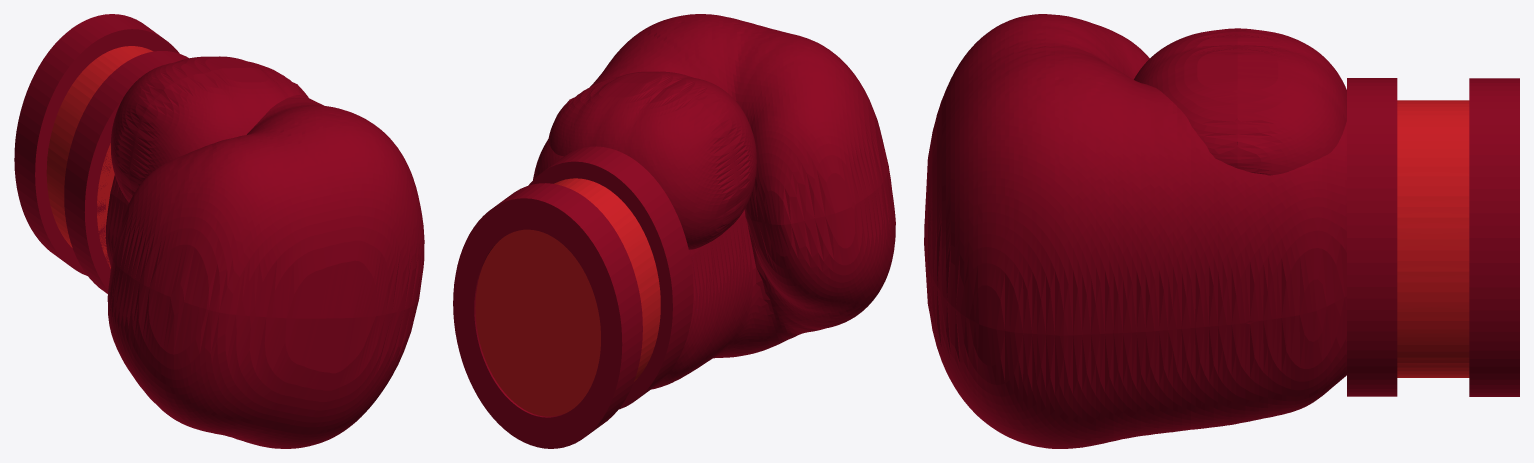
The model's file is right_glove.glb.
3 renders of one model, left to right at view 1: azimuth 30°, elevation 25°; view 2: azimuth 150°, elevation 25°; view 3: azimuth 270°, elevation 25°, orthographic. The views are drawn at different scales.
Size of the model in its own units: 0.4025 by 0.4393 by 0.6124.
3 materials, 3 textured.
